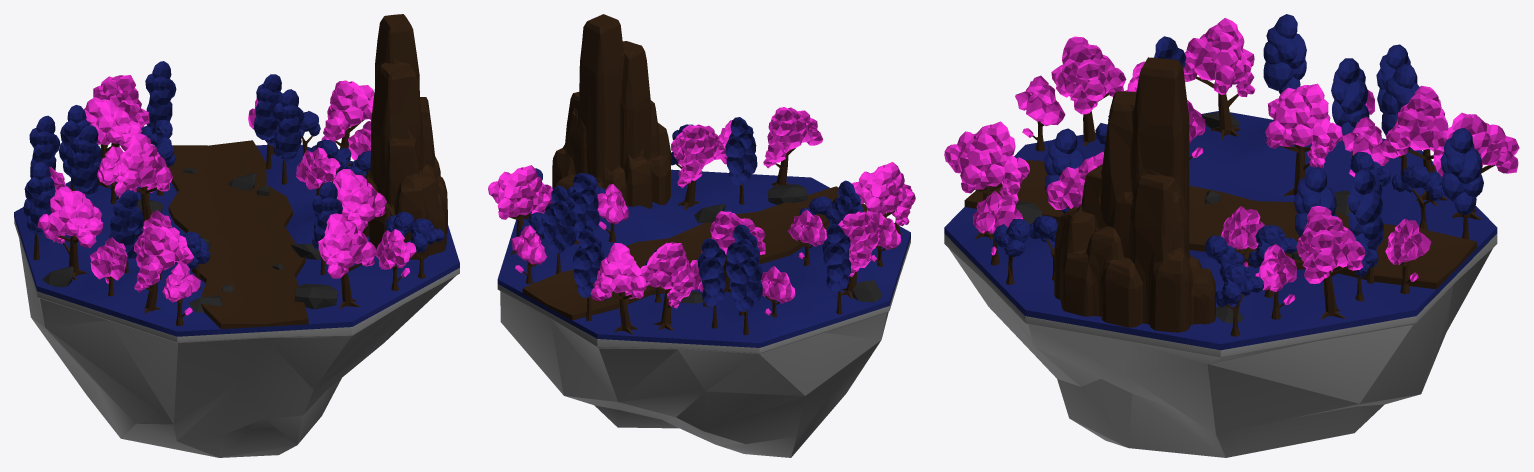
File: Green_planet_base_001.FBX
The picture shows the model from 3 angles, left to right: view 1: azimuth 30°, elevation 25°; view 2: azimuth 150°, elevation 25°; view 3: azimuth 270°, elevation 25°; orthographic projection. The views are drawn at different scales.
Visible parts, largest first — view 1: 004_GREEN PLANET_BASE; view 2: 004_GREEN PLANET_BASE; view 3: 004_GREEN PLANET_BASE.
Boxes of the visible parts, left/top/right/bottom form: 004_GREEN PLANET_BASE: left=14, top=14, right=459, bottom=457; 004_GREEN PLANET_BASE: left=488, top=14, right=915, bottom=457; 004_GREEN PLANET_BASE: left=944, top=14, right=1519, bottom=457.
Size of the model in its own units: 16.22 by 15.49 by 16.88.
